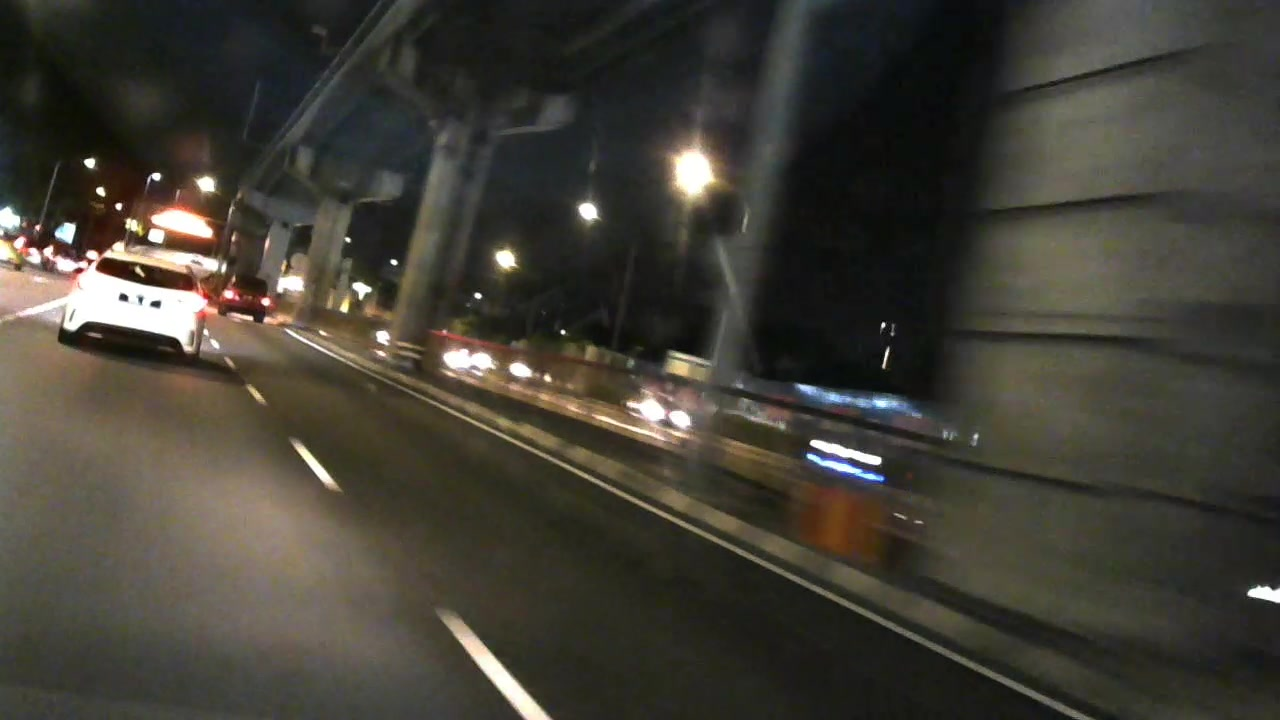Car: (57, 245, 211, 372), (212, 266, 282, 322)
